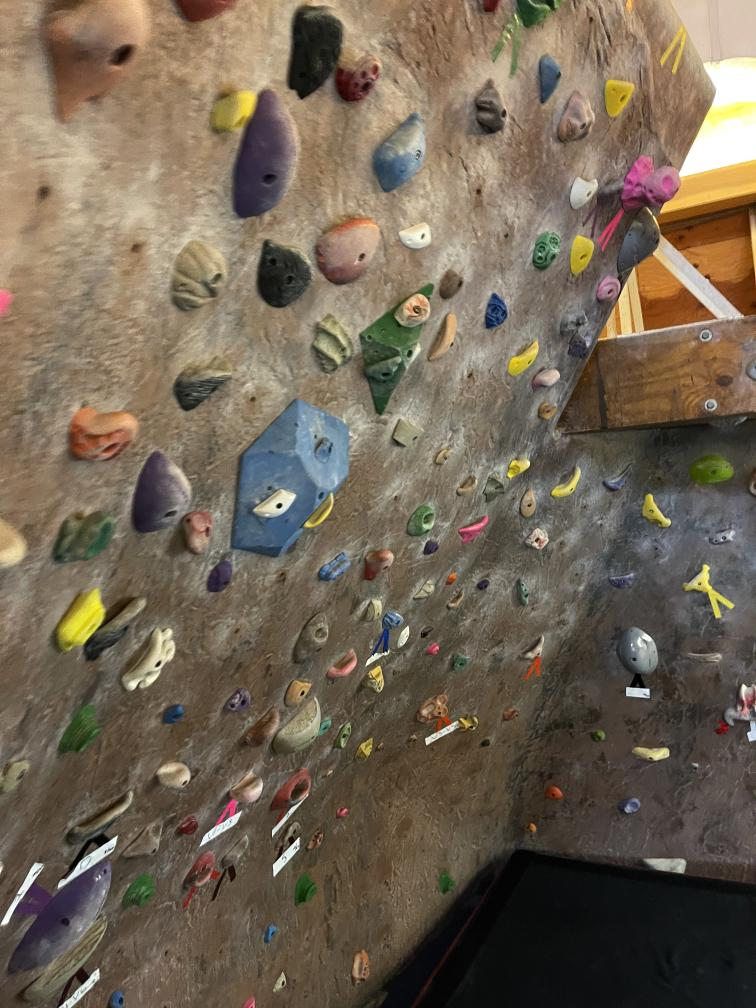Crimp: (311, 312, 359, 381), (250, 482, 298, 526), (535, 51, 568, 110), (361, 351, 409, 388), (394, 218, 441, 253), (472, 292, 514, 331), (392, 292, 432, 328), (317, 548, 354, 586), (391, 414, 428, 451), (550, 464, 582, 506), (219, 836, 256, 872), (565, 174, 599, 211), (271, 819, 305, 853), (437, 268, 468, 304), (564, 330, 600, 360), (603, 462, 636, 493), (309, 435, 338, 467), (680, 650, 726, 670), (514, 486, 539, 520), (706, 524, 740, 549), (607, 568, 642, 592), (410, 578, 436, 602), (428, 447, 455, 469), (381, 606, 404, 630), (394, 626, 413, 654), (444, 589, 464, 614), (493, 706, 524, 722), (418, 623, 436, 640)
Edges: (608, 622, 662, 686), (618, 206, 665, 275), (274, 695, 322, 758), (685, 450, 738, 491), (481, 470, 508, 506)
Foothold: (205, 560, 242, 605), (345, 946, 376, 987), (287, 874, 323, 908), (218, 685, 256, 717), (625, 746, 672, 770), (360, 665, 390, 696), (158, 700, 188, 729), (173, 814, 205, 841), (331, 718, 355, 754), (430, 872, 457, 899), (615, 795, 647, 816), (539, 782, 569, 804), (354, 736, 375, 766), (257, 920, 281, 944), (420, 536, 444, 560), (456, 715, 482, 737), (272, 970, 293, 994), (516, 821, 542, 840), (374, 741, 393, 761), (425, 643, 446, 661), (588, 730, 611, 746), (686, 758, 706, 776), (476, 578, 496, 596), (334, 806, 352, 822), (441, 572, 458, 588), (403, 732, 419, 748), (478, 737, 494, 752)
Hand-holds: (522, 526, 552, 558)
Jug: (7, 854, 110, 980), (231, 88, 304, 222), (129, 444, 196, 547), (282, 1, 348, 105), (59, 400, 141, 474), (44, 500, 118, 575), (312, 216, 383, 288), (254, 233, 314, 313), (64, 787, 137, 850), (84, 594, 148, 663), (620, 153, 681, 220), (334, 49, 398, 107), (170, 362, 238, 416), (210, 82, 260, 138), (671, 562, 718, 611), (178, 509, 220, 559), (226, 766, 266, 817), (300, 493, 338, 544), (243, 706, 283, 754), (598, 75, 636, 125), (640, 488, 676, 538), (360, 542, 398, 586), (563, 229, 596, 278), (503, 340, 542, 380), (515, 633, 554, 670), (454, 512, 493, 545), (324, 648, 360, 683), (590, 271, 622, 307), (453, 466, 483, 503), (598, 174, 626, 210), (500, 455, 534, 480), (531, 368, 559, 396), (531, 399, 561, 422)
Pinch: (368, 110, 436, 197), (46, 584, 108, 656), (120, 626, 177, 700), (53, 695, 108, 762), (469, 79, 515, 145), (554, 86, 598, 150), (148, 754, 198, 796), (122, 816, 163, 863), (427, 312, 461, 368), (411, 691, 454, 732), (121, 871, 157, 915), (508, 576, 532, 614), (362, 597, 385, 628), (446, 649, 472, 676)
Pocket: (291, 606, 332, 670), (271, 766, 318, 813), (182, 848, 219, 895), (404, 500, 440, 538)
Sloper: (168, 237, 238, 321), (524, 224, 566, 278), (551, 301, 589, 337)
